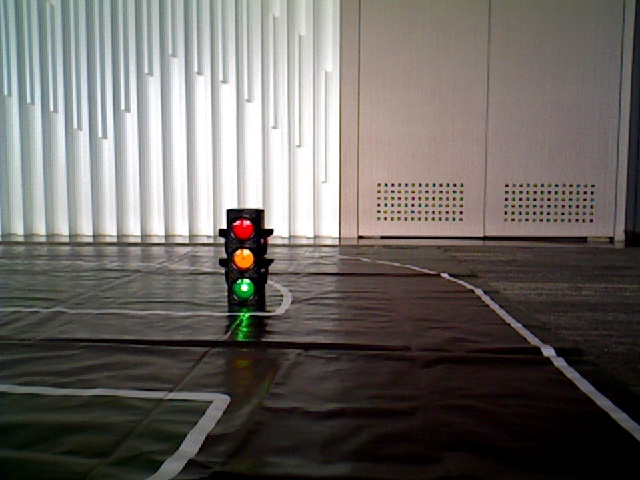green: (228, 213, 262, 297)
